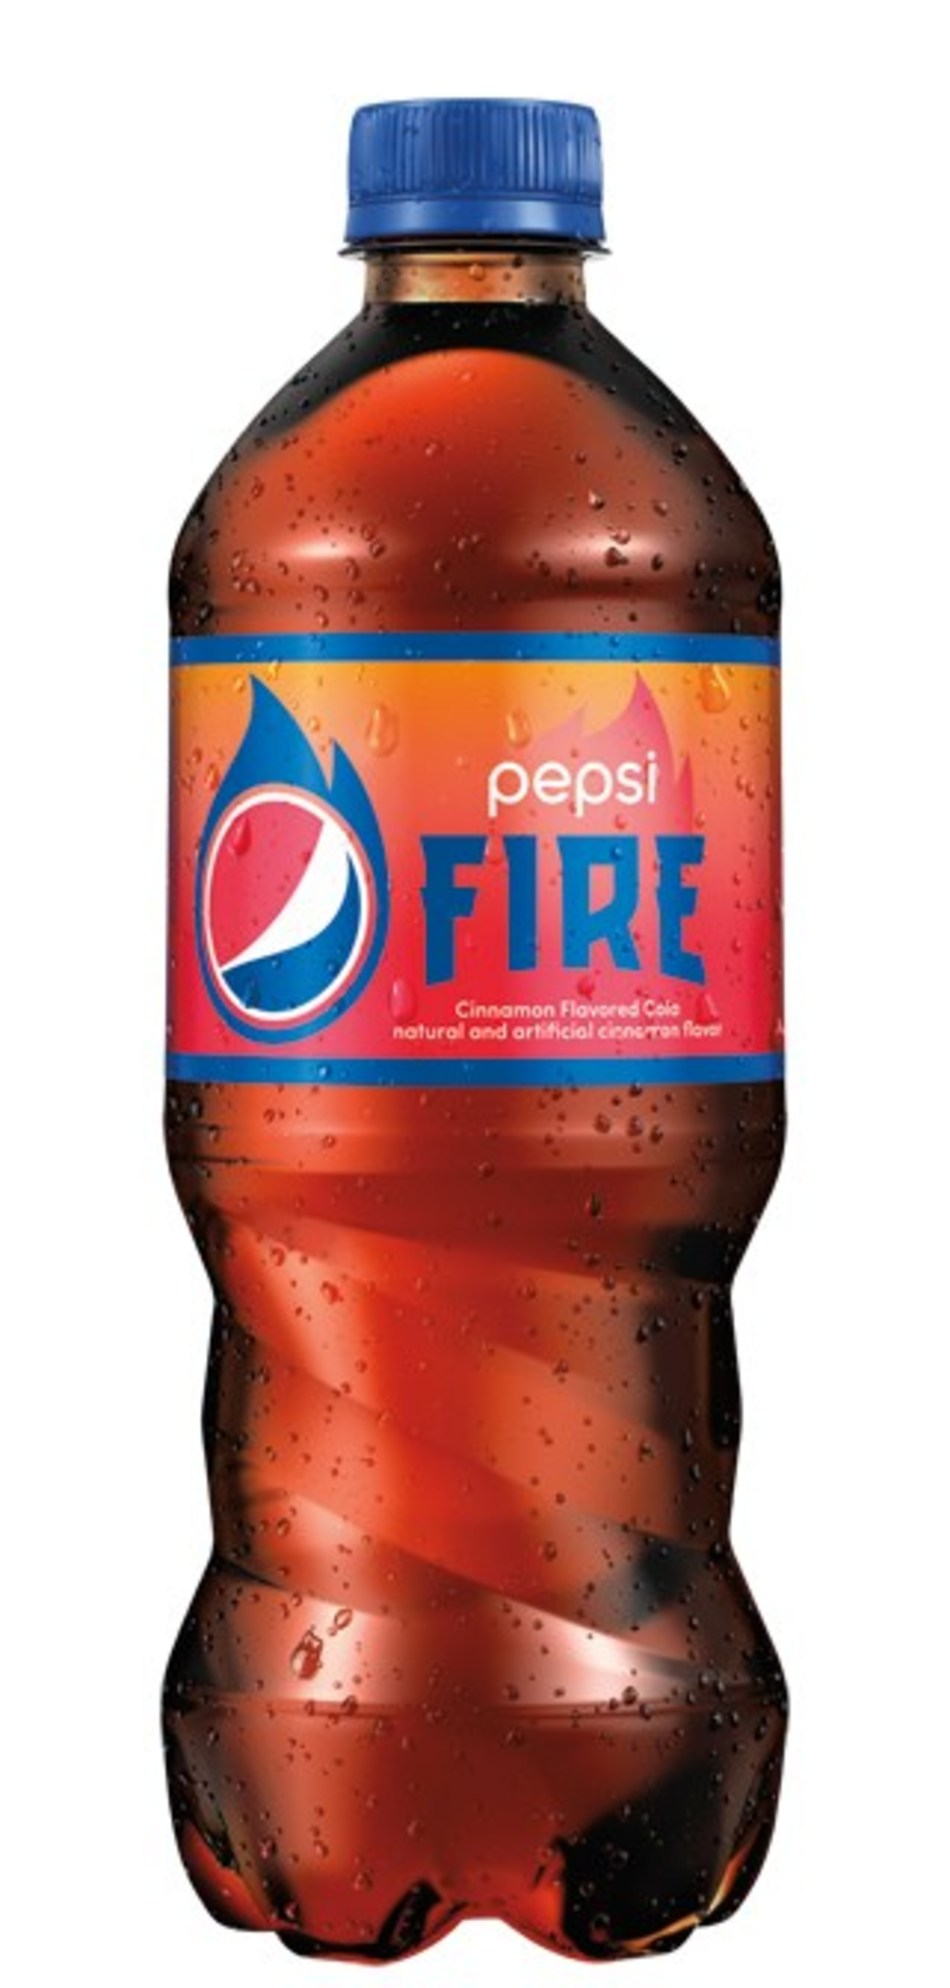pepsi: (199, 794, 363, 1010)
